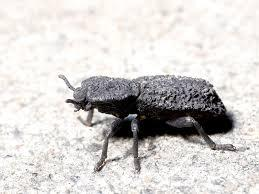insect: (56, 66, 241, 175)
